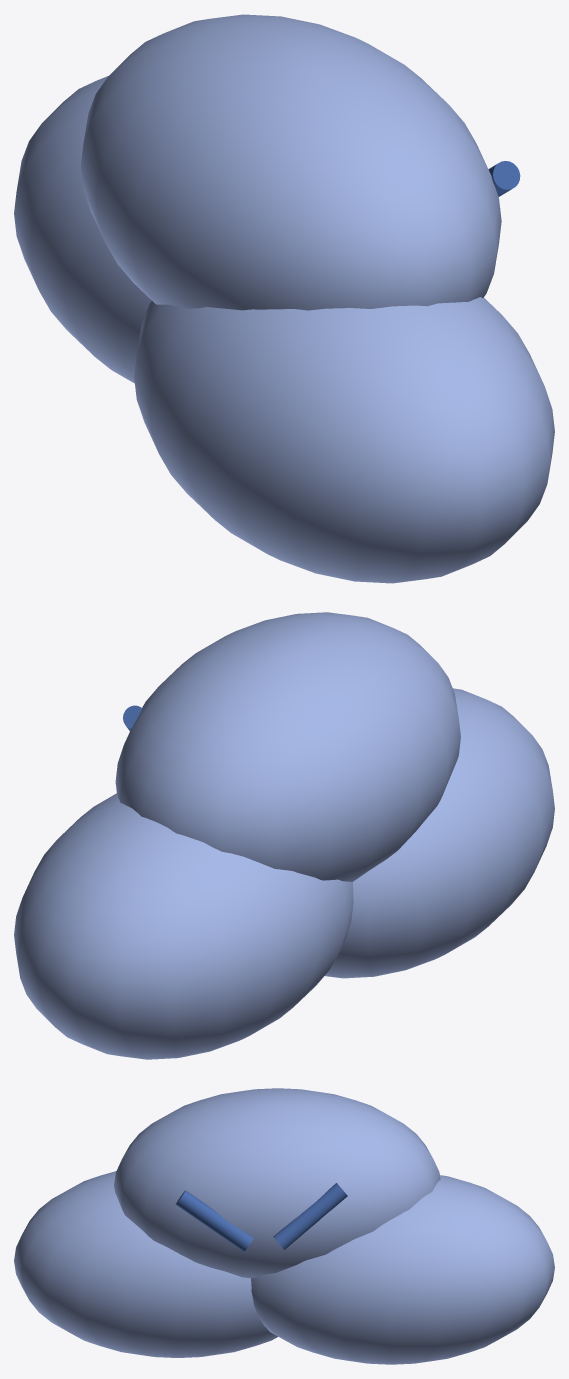
File: Cloud.fbx
The picture shows the model from 3 angles, top to bottom: view 1: azimuth 30°, elevation 25°; view 2: azimuth 150°, elevation 25°; view 3: azimuth 270°, elevation 25°; orthographic projection. The views are drawn at different scales.
Visible parts, largest first — view 1: pSphere4, pCylinder2; view 2: pSphere4; view 3: pSphere4, pCylinder2, pCylinder1.
Part boxes in pixels (x1=…): pSphere4: x1=14, y1=14, x2=554, y2=583; pCylinder2: x1=488, y1=161, x2=520, y2=196; pSphere4: x1=14, y1=612, x2=554, y2=1059; pSphere4: x1=14, y1=1088, x2=554, y2=1364; pCylinder2: x1=175, y1=1190, x2=253, y2=1251; pCylinder1: x1=273, y1=1183, x2=347, y2=1249.
Bounding box in the file's own units: 6.26 × 6.75 × 12.98.
